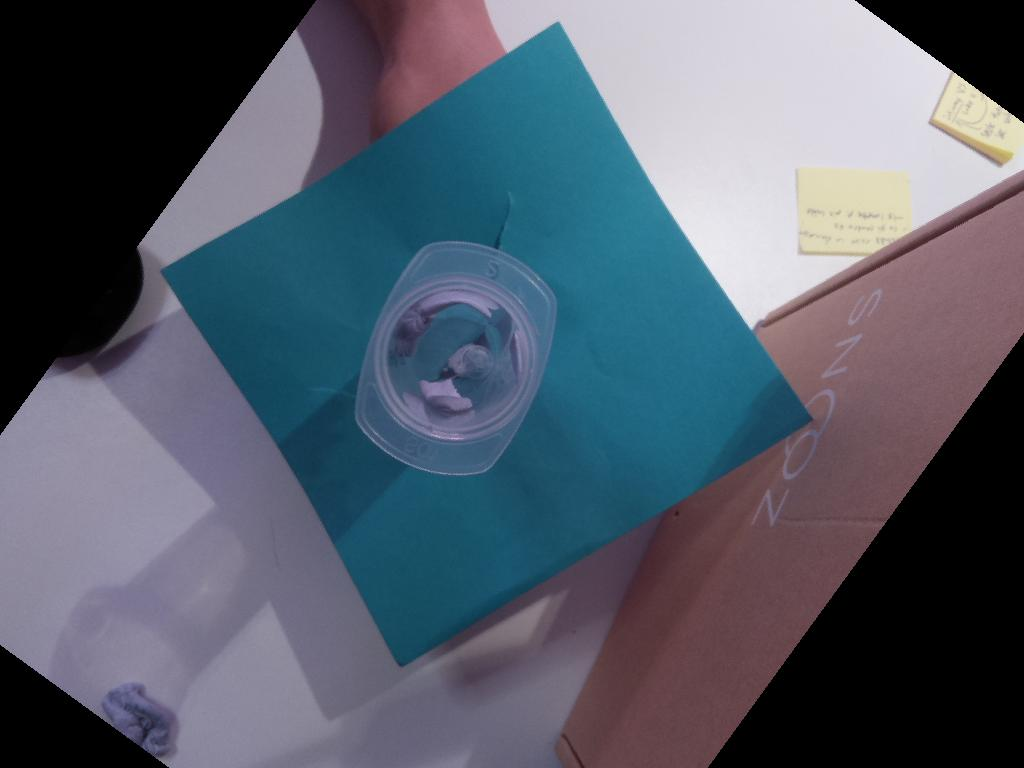dirty: (353, 240, 556, 477)
